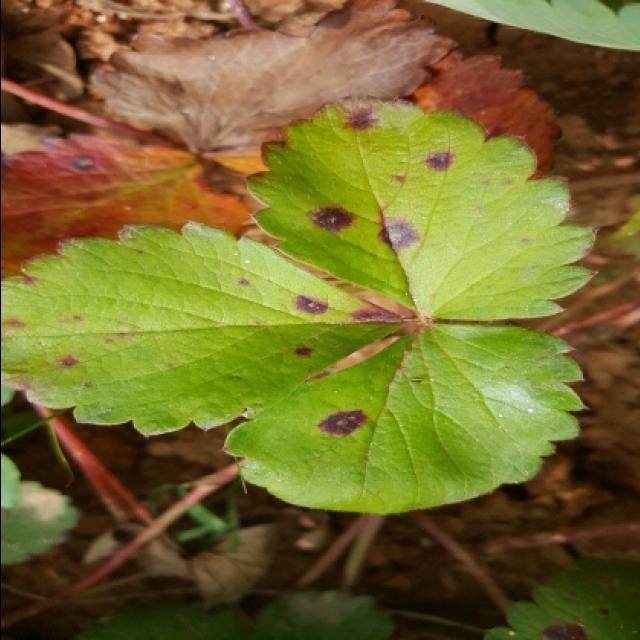Leaf Spot: (2, 220, 407, 438), (242, 94, 602, 322), (221, 320, 592, 514), (2, 132, 273, 276), (481, 555, 640, 640)
